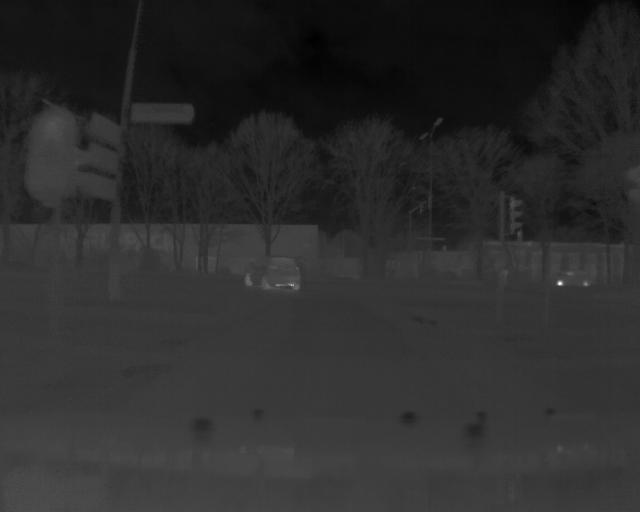car: (239, 251, 304, 293)
